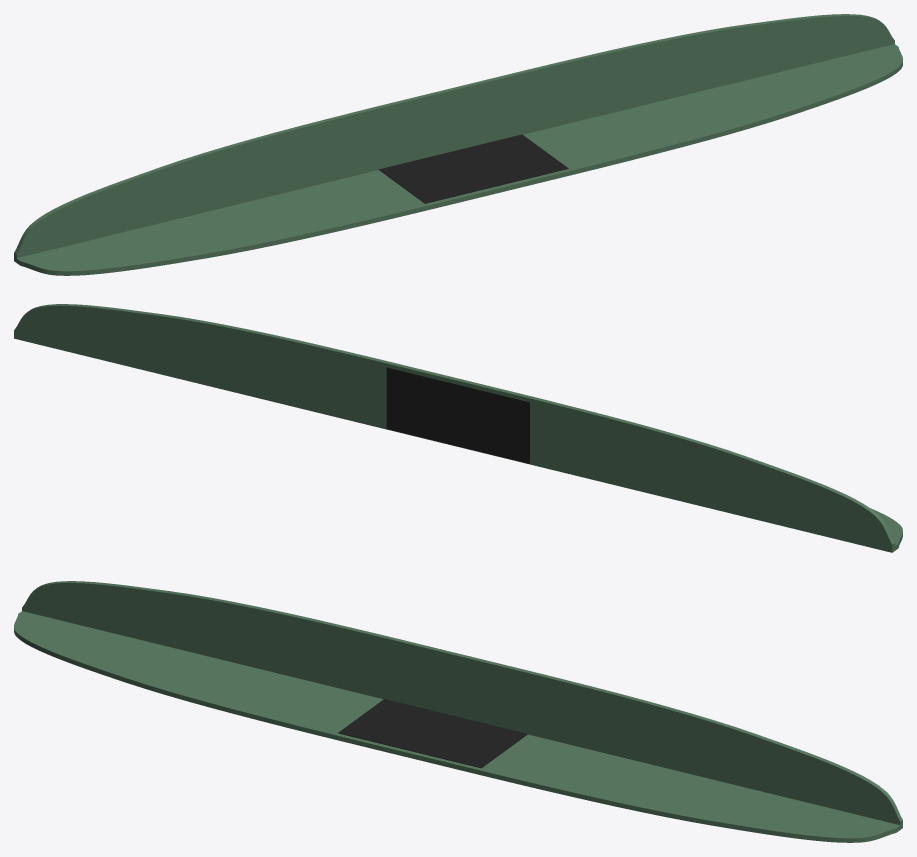
3 views of the same model, one above another, from view 1: azimuth 30°, elevation 25°; view 2: azimuth 150°, elevation 25°; view 3: azimuth 330°, elevation 25° (orthographic).
Visible parts, largest first — view 1: floor, dark_floor; view 2: floor, dark_floor; view 3: floor, dark_floor.
Part boxes in pixels (box(x1,y1,x2,y2)): floor: box(14, 14, 902, 275); dark_floor: box(378, 134, 568, 203); floor: box(14, 304, 902, 552); dark_floor: box(386, 367, 529, 463); floor: box(14, 581, 902, 842); dark_floor: box(338, 699, 527, 768).
Bounding box in the file's own units: 0.3 × 0.0216 × 0.0304.
